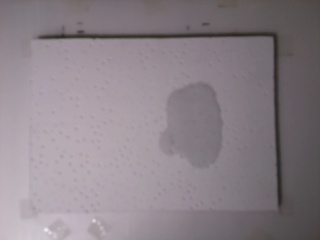Water_detected: (177, 102, 217, 164)
